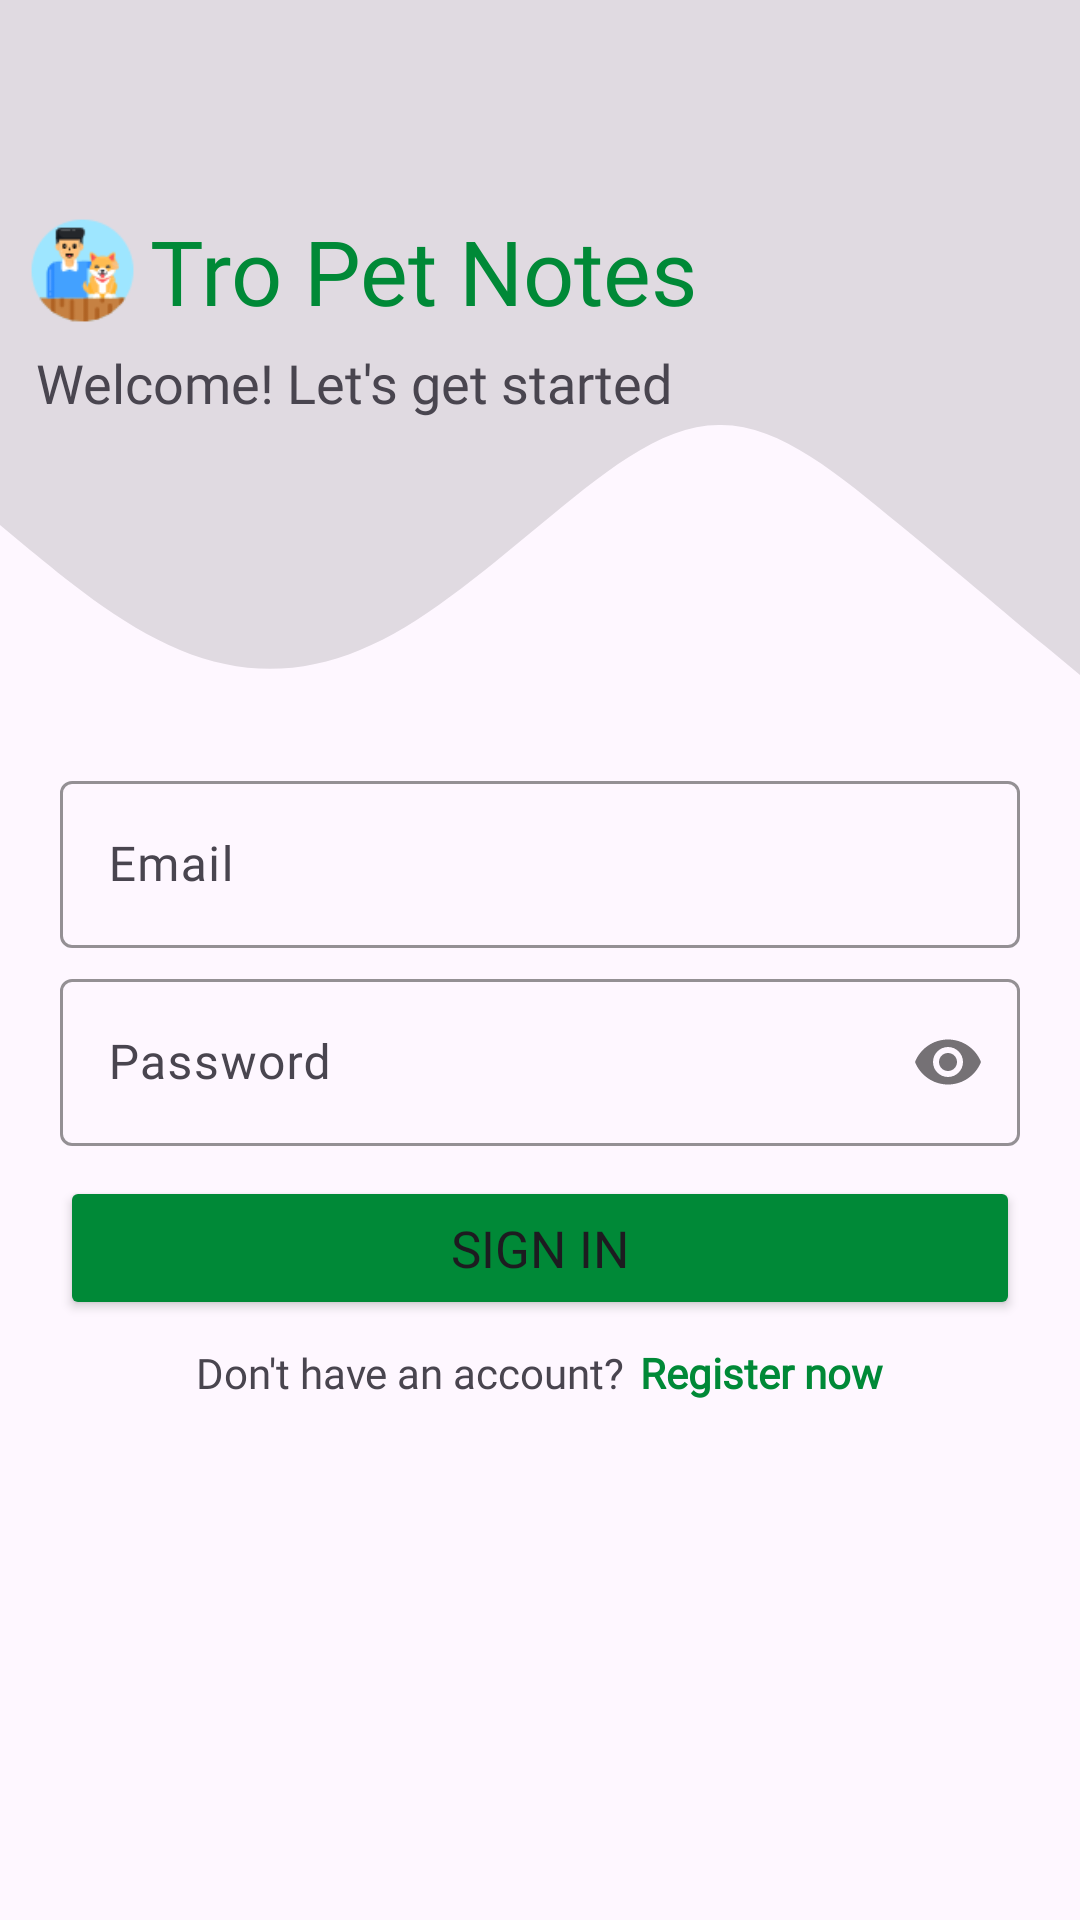

Screen size 1080x1920. Icon name, then its center in pixels as [x,y]:
pet apps: [82,270]
